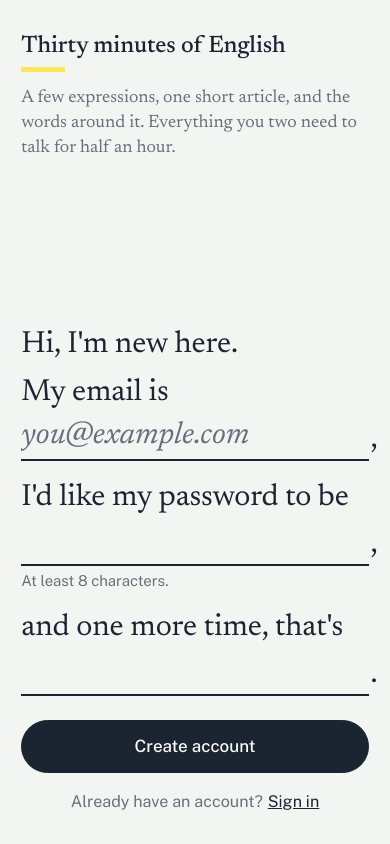
a bad email is asked for again
The width and height of the screenshot is (390, 844).
Type "not-an-email" into the field named "Email".
click(195, 437); type("not-an-email")  # box [21, 413, 369, 461]
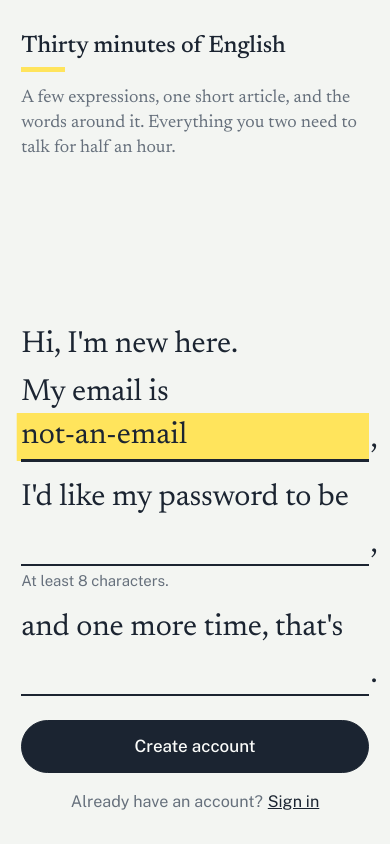
Type "12345678" into the 1st password field named "Password".
click(195, 541); type("12345678")  # box [21, 517, 369, 566]
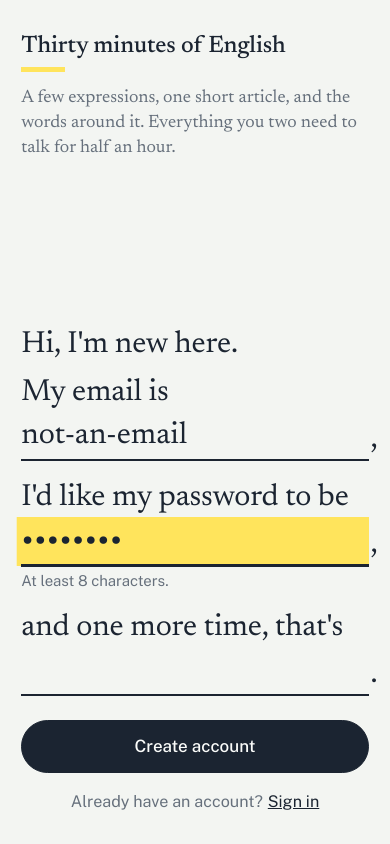
Type "12345678" into the 2nd password field named "Confirm password".
click(195, 672); type("12345678")  # box [21, 648, 369, 696]
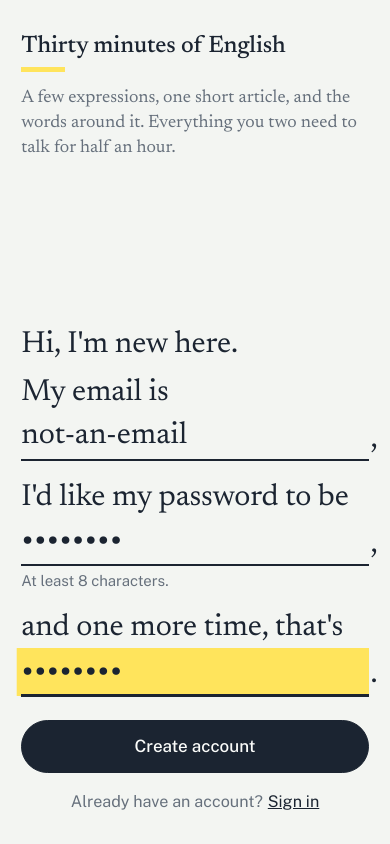
Click the button "Create account".
click(195, 746)  # box [21, 720, 369, 773]
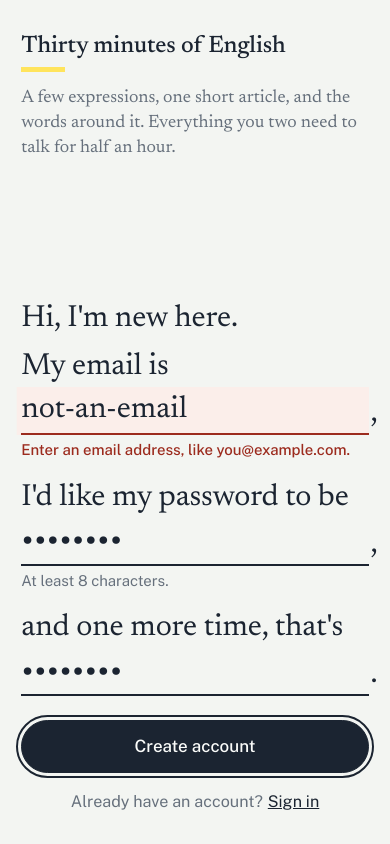
Expected: the text "Enter an email address, like you@example.com." is shown, [21, 440, 369, 461]
